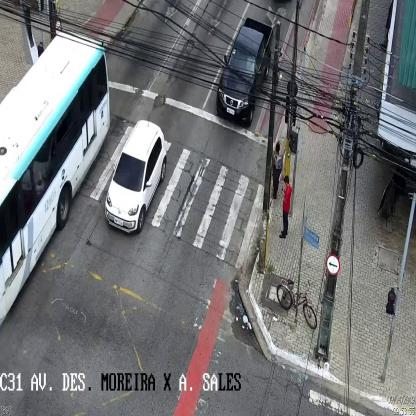bicycle: (276, 278, 316, 330)
bus: (0, 35, 110, 324)
car: (105, 119, 167, 237), (216, 18, 272, 130)
person: (278, 174, 292, 244), (272, 136, 282, 202)
